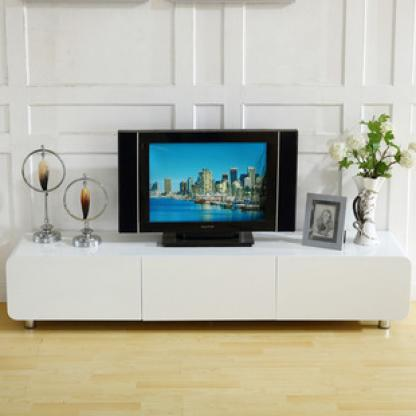TV stand: (5, 215, 412, 330)
